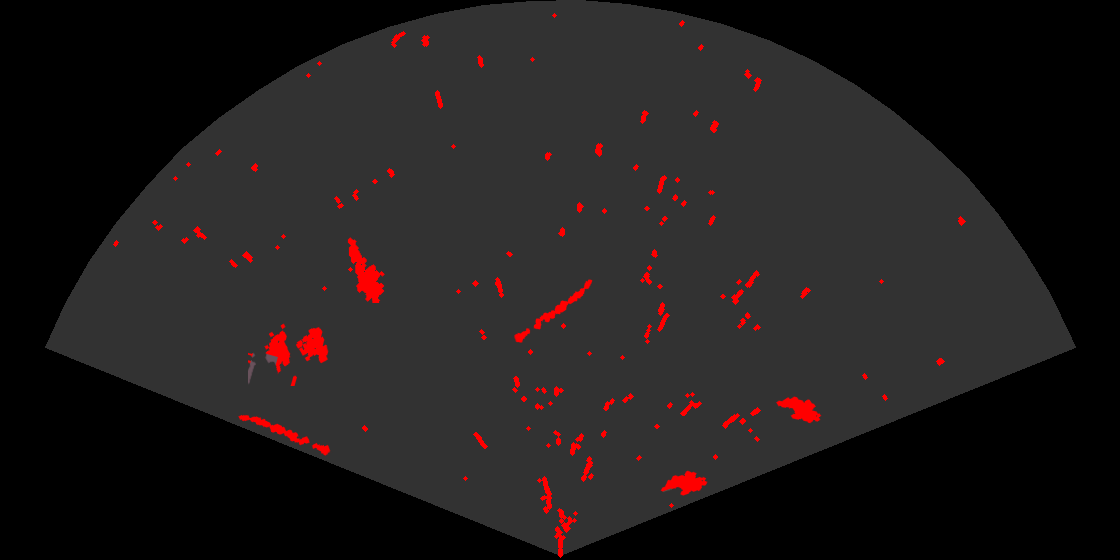AUV: (775, 395, 823, 425), (659, 469, 709, 497)
cage: (248, 322, 330, 386)
chain: (512, 278, 594, 344), (237, 413, 333, 457)
frogman: (346, 236, 386, 303)
